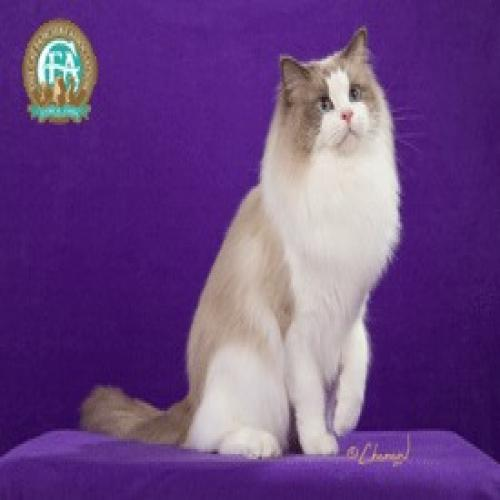ragdoll: (267, 25, 397, 166)
